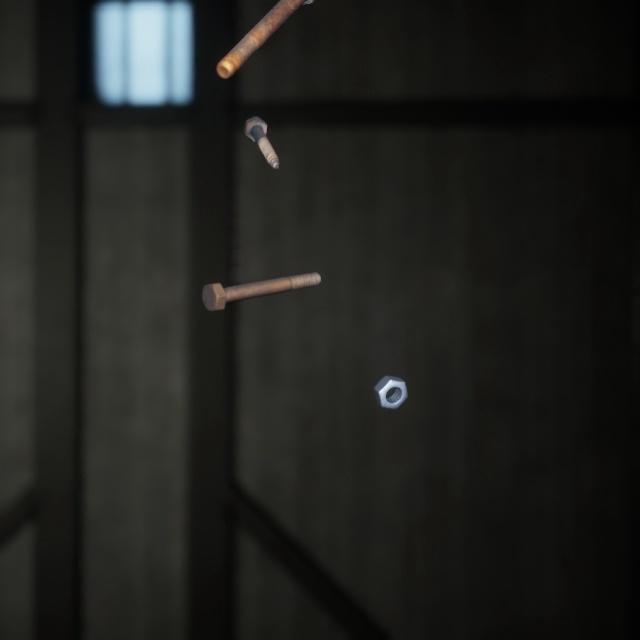bolt: (212, 0, 302, 73), (197, 250, 325, 297), (239, 98, 284, 159)
nut: (369, 352, 412, 395)
